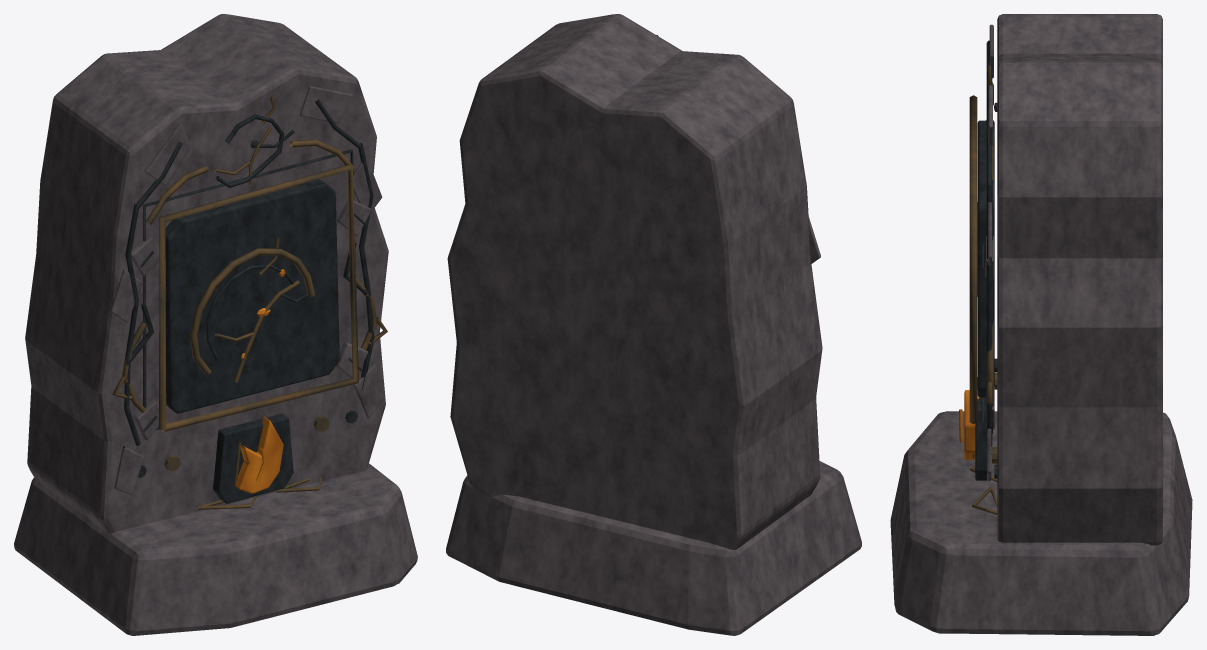
File: RitualShrineV18_13.fbx
3 views of the same model, side by side, from view 1: azimuth 30°, elevation 25°; view 2: azimuth 150°, elevation 25°; view 3: azimuth 270°, elevation 25° (orthographic). The views are drawn at different scales.
Parts seen in each view (by area): view 1: RitualShrineV18_13; view 2: RitualShrineV18_13; view 3: RitualShrineV18_13.
Boxes of the visible parts, bbox=[...] form: RitualShrineV18_13: bbox=[14, 14, 417, 635]; RitualShrineV18_13: bbox=[446, 14, 861, 635]; RitualShrineV18_13: bbox=[890, 14, 1192, 635].
Size of the model in its own units: 0.4337 by 0.6856 by 0.357.
Materials: 4 (4 with a texture image).
